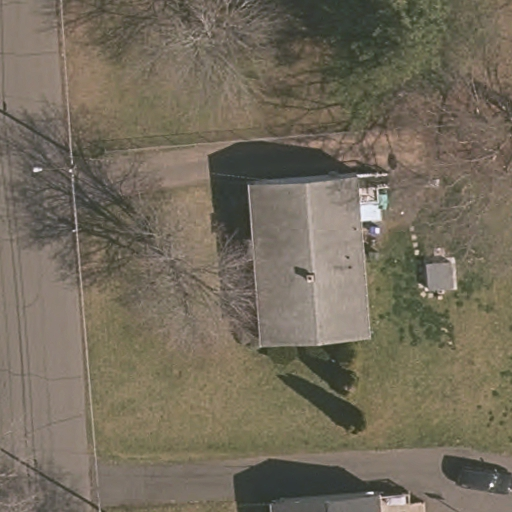DT: (27, 150, 96, 180)
